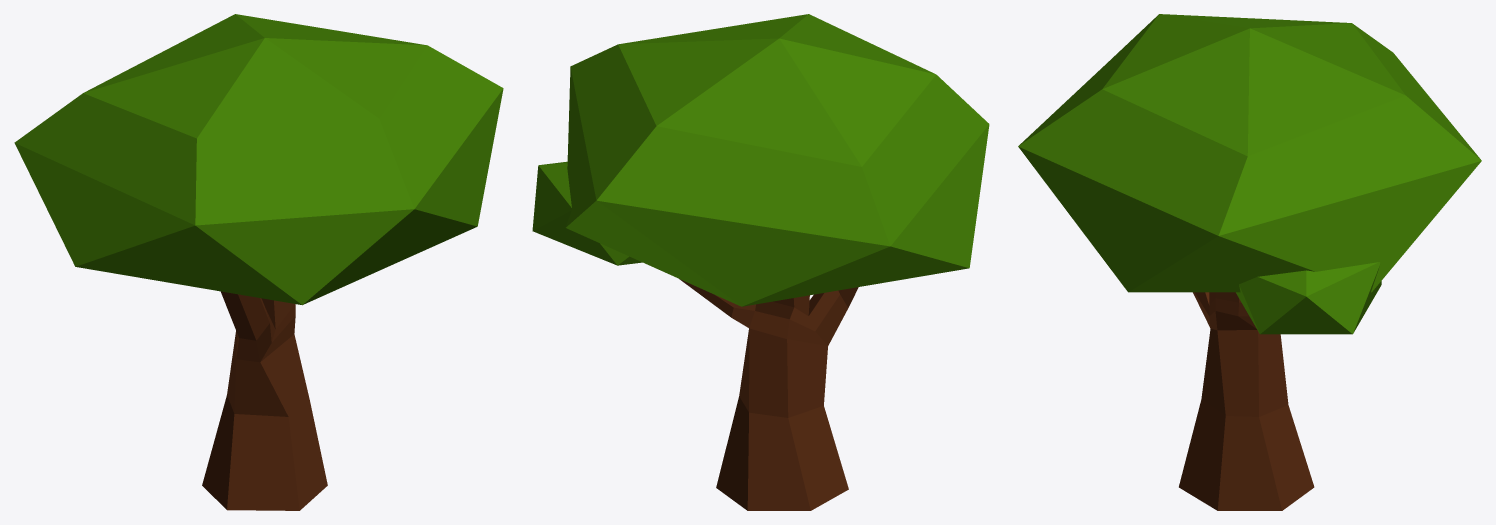
Rendered from T_Oak1.fbx.
The picture shows the model from 3 angles, left to right: view 1: azimuth 30°, elevation 25°; view 2: azimuth 150°, elevation 25°; view 3: azimuth 270°, elevation 25°; orthographic projection. The views are drawn at different scales.
Visible parts, largest first — view 1: Icosphere; view 2: Icosphere; view 3: Icosphere.
Boxes of the visible parts, box(x1,y1,x2,y2) form: Icosphere: box(14, 14, 503, 510); Icosphere: box(532, 14, 989, 510); Icosphere: box(1018, 14, 1481, 510).
Bounding box in the file's own units: 7.05 × 7.3 × 6.68.
